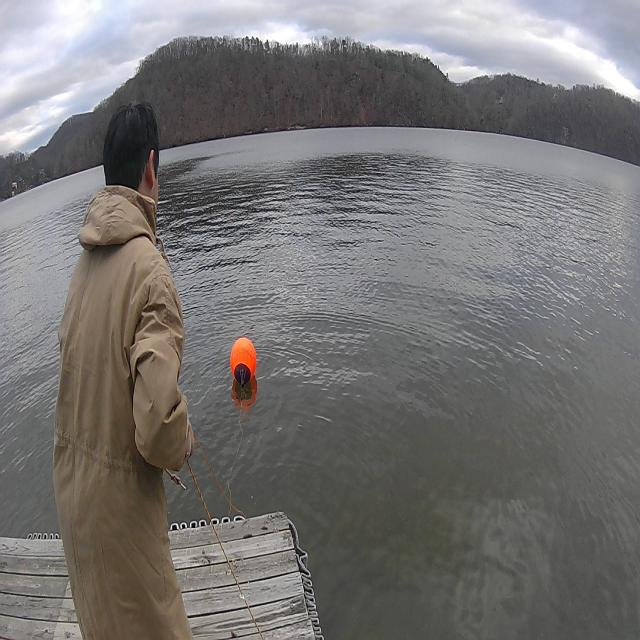Buoy: (225, 326, 262, 399)
